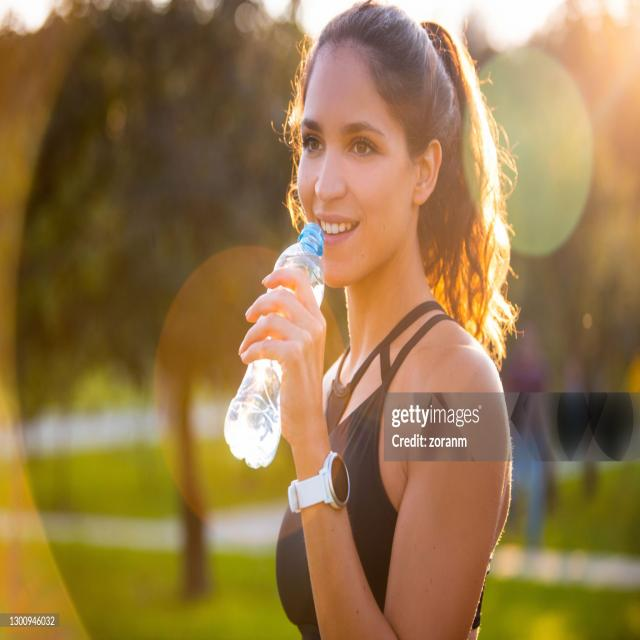bottle: (223, 222, 325, 471)
